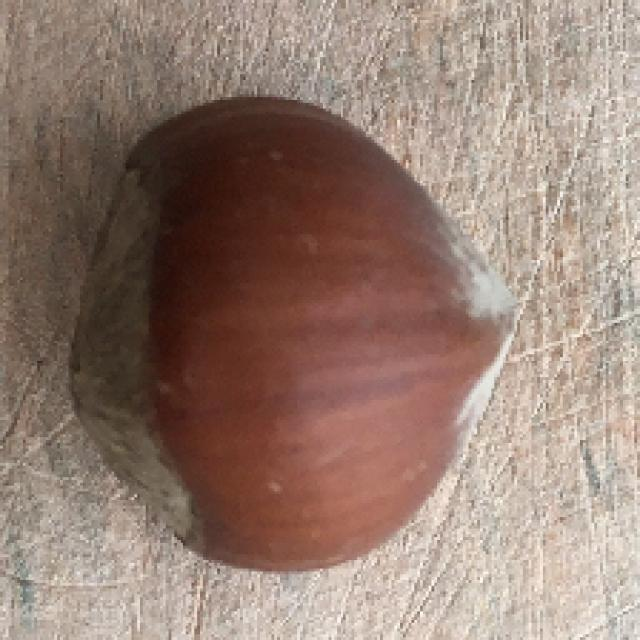damagedHazelnut: (60, 92, 518, 575)
